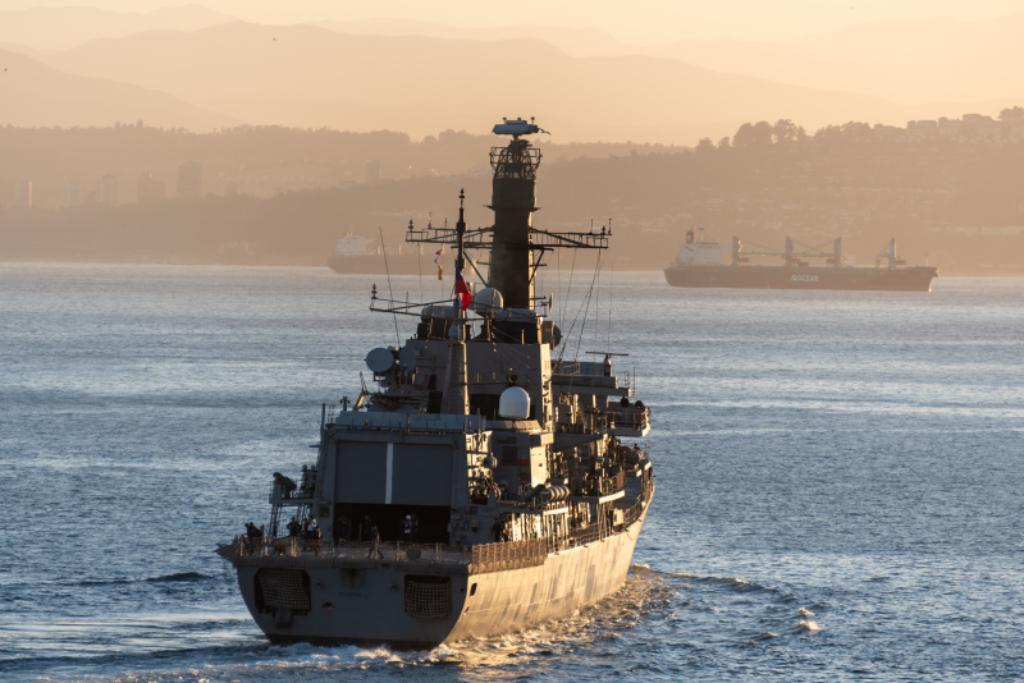Warship: (218, 102, 656, 656)
